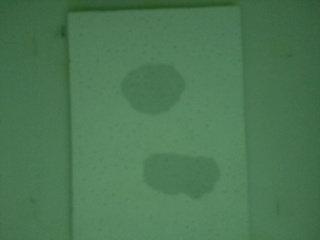Water_detected: (125, 63, 187, 112), (149, 150, 214, 193)
